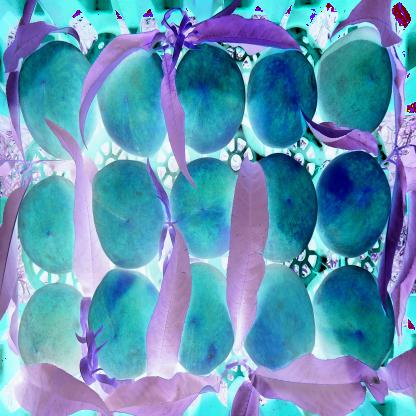peach leaf: (45, 115, 102, 291), (78, 26, 162, 144), (227, 150, 266, 355), (142, 224, 196, 367), (246, 348, 362, 411), (187, 11, 306, 60), (159, 51, 199, 192), (105, 368, 204, 416), (21, 364, 109, 416), (0, 19, 78, 77), (297, 117, 392, 157)
